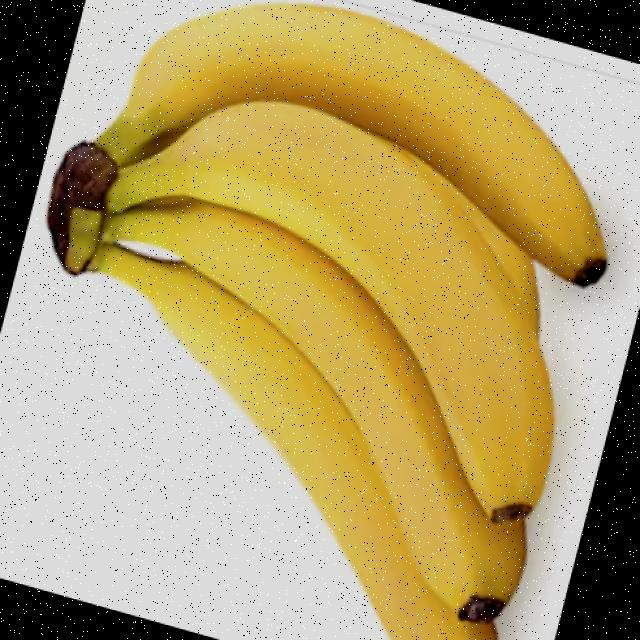god quality banana: (48, 4, 607, 639)
